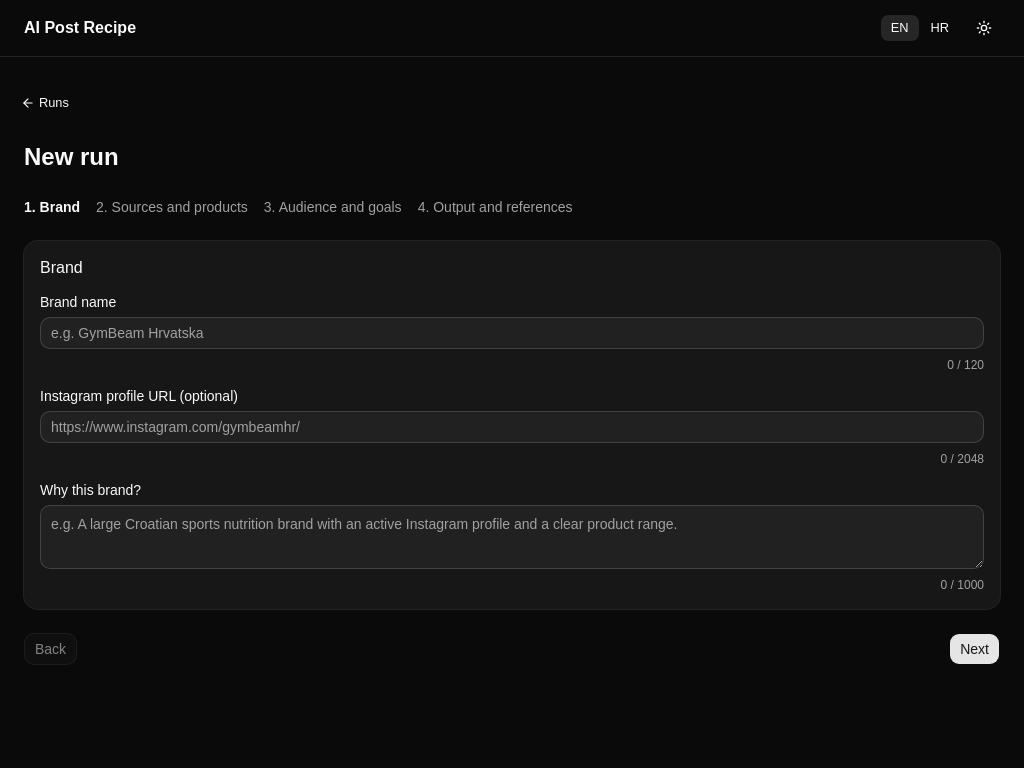
Scenario: Language toggle › shows form errors in Croatian
Click the button "HR" at (940, 28), box [920,14,960,42]
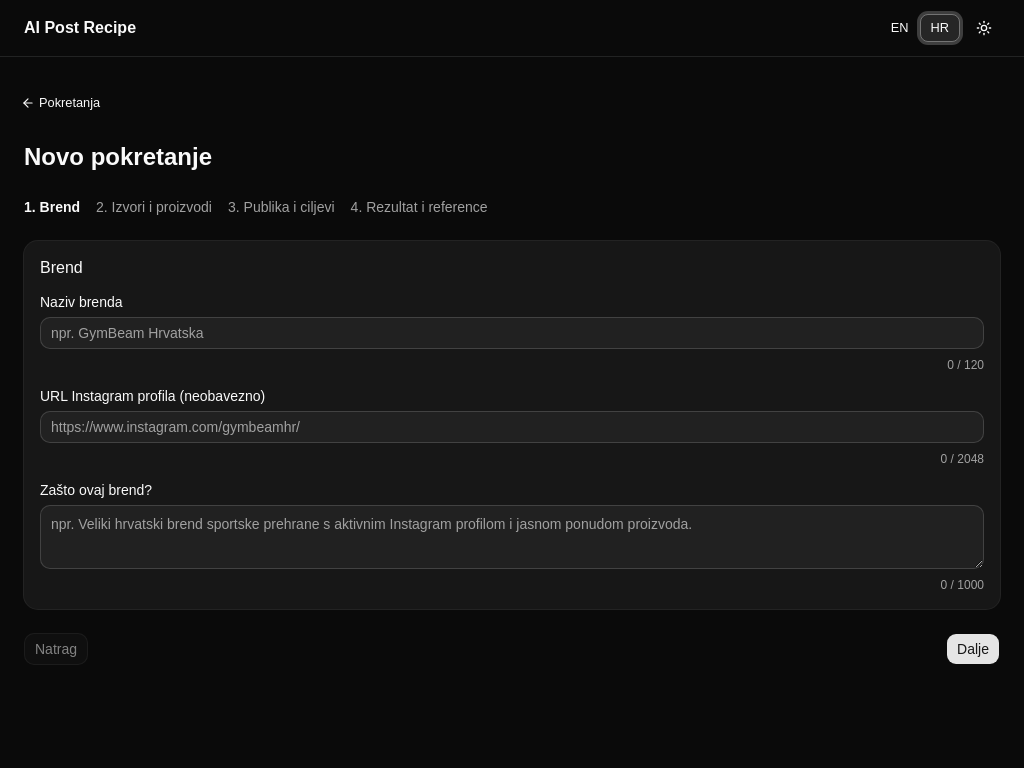
Click the button "Dalje" at (973, 649), box [946,633,1000,665]
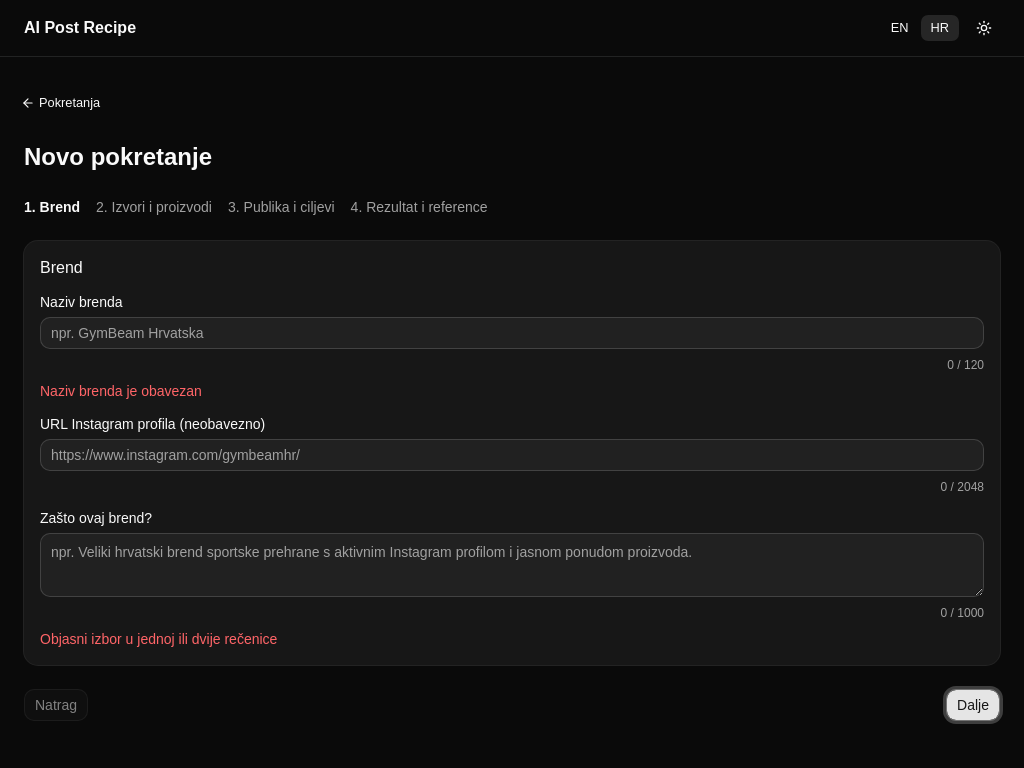
Expected: the text "Naziv brenda je obavezan" is shown, [40,383,202,399]
